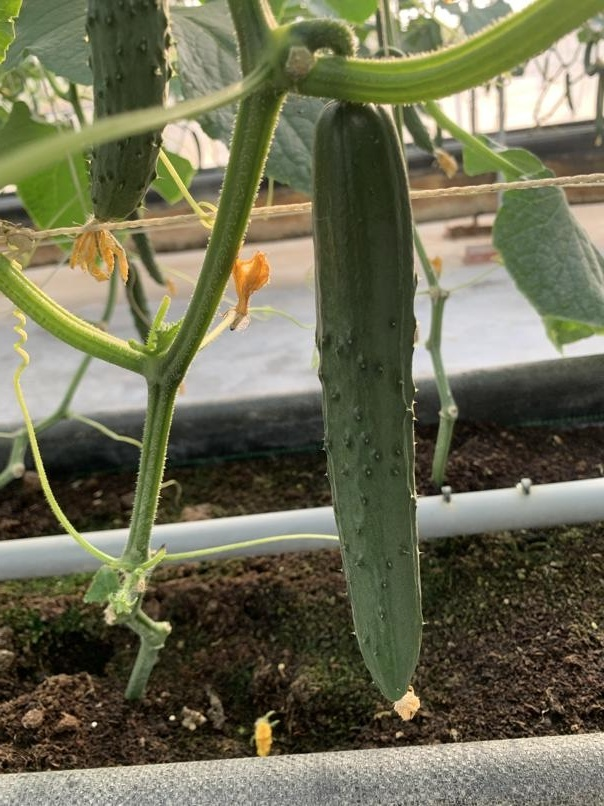mature: (296, 144, 446, 702)
